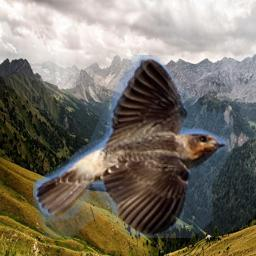Swallow: (33, 55, 233, 238)
